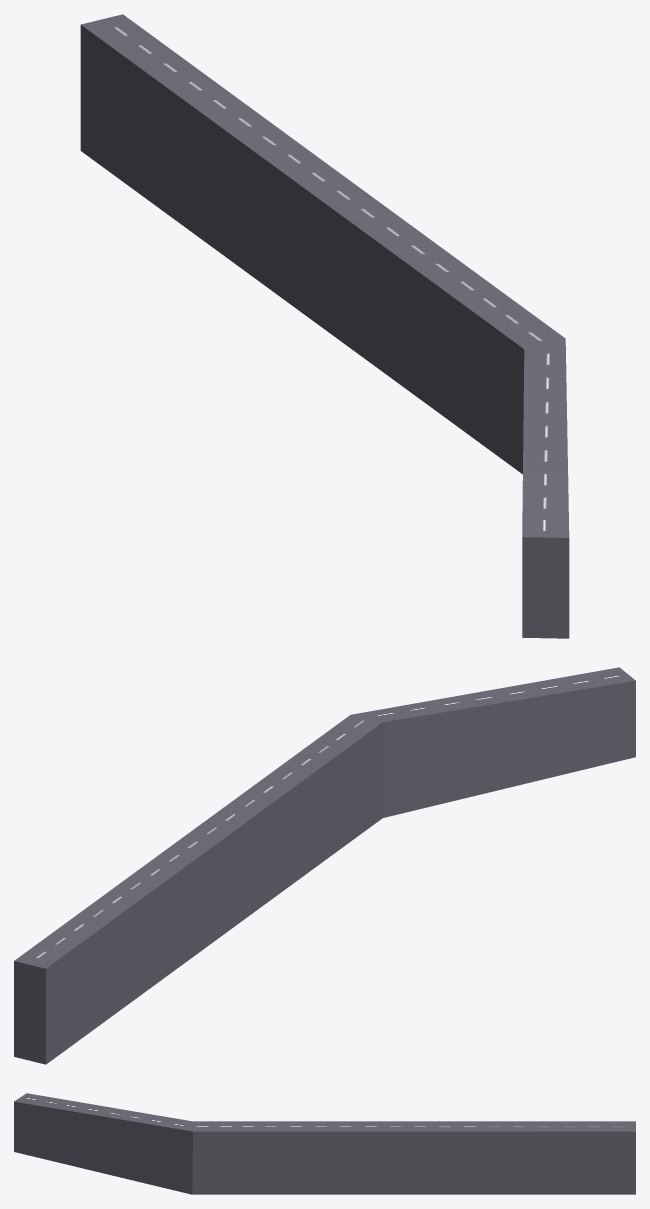
Rendered from road_5.gltf.
3 renders of one model, top to bottom at view 1: azimuth 30°, elevation 25°; view 2: azimuth 150°, elevation 25°; view 3: azimuth 270°, elevation 25°, orthographic. The views are drawn at different scales.
Parts seen in each view (by area): view 1: road; view 2: road; view 3: road.
Boxes of the visible parts, x1,y1,x2,y2 form: road: [80, 14, 569, 638]; road: [14, 667, 635, 1064]; road: [14, 1093, 635, 1194].
Bounding box in the file's own units: 4.24 × 2.44 × 21.76.
1 material, 1 textured.
